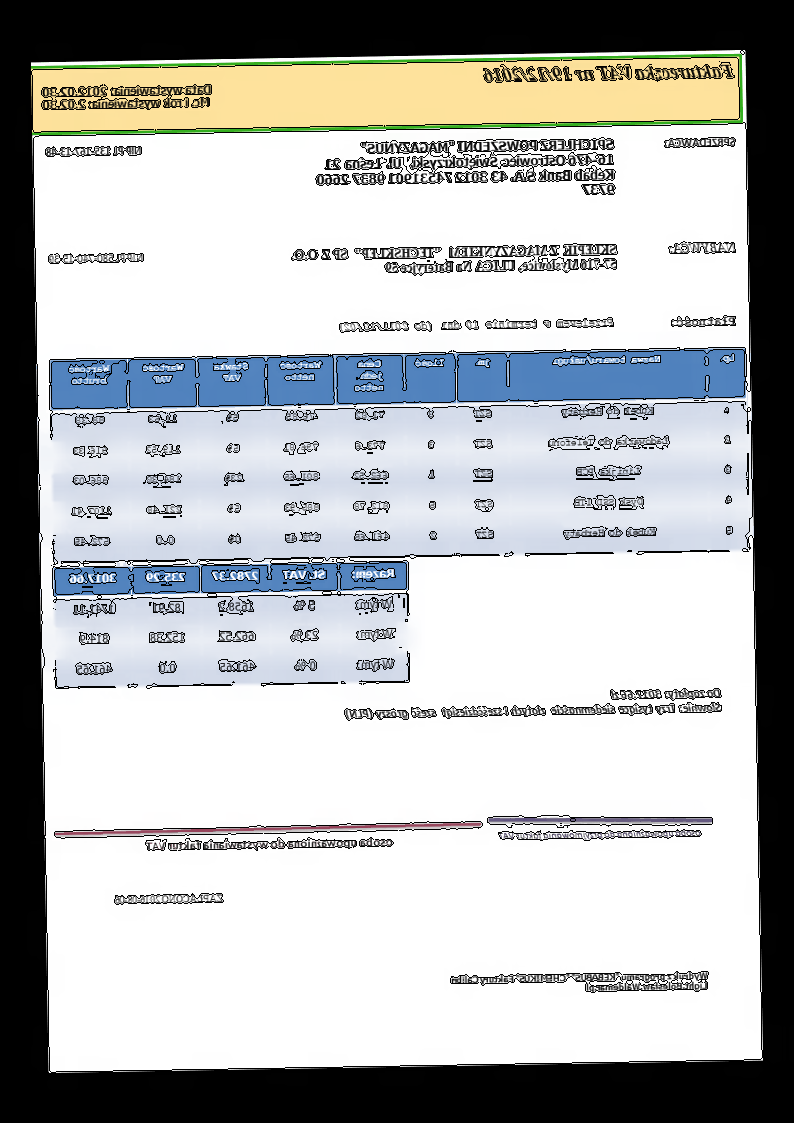Table: (48, 345, 751, 565), (52, 561, 411, 689)
TextBox: (313, 135, 617, 202), (343, 685, 724, 723), (291, 241, 619, 278), (448, 968, 710, 996), (481, 60, 735, 87), (338, 313, 616, 336), (40, 81, 214, 112), (145, 834, 396, 854), (496, 826, 703, 845), (113, 890, 227, 907), (42, 142, 143, 159), (47, 250, 145, 267), (667, 237, 739, 257), (664, 134, 737, 150), (667, 313, 738, 329)
